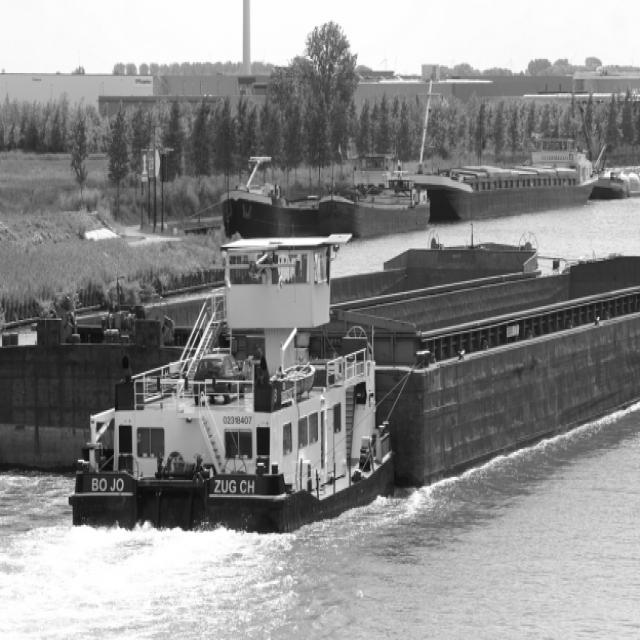tugboat: (66, 229, 401, 548)
